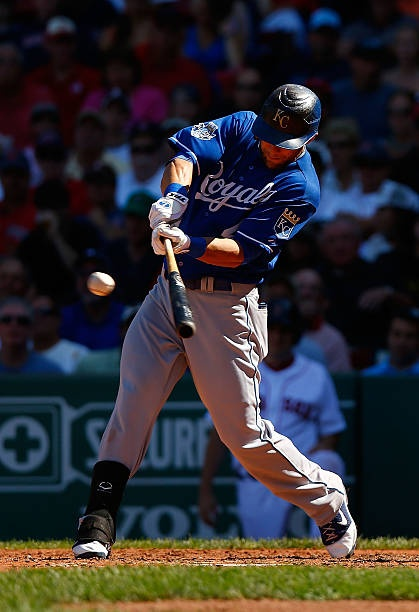bita: (153, 220, 201, 337)
